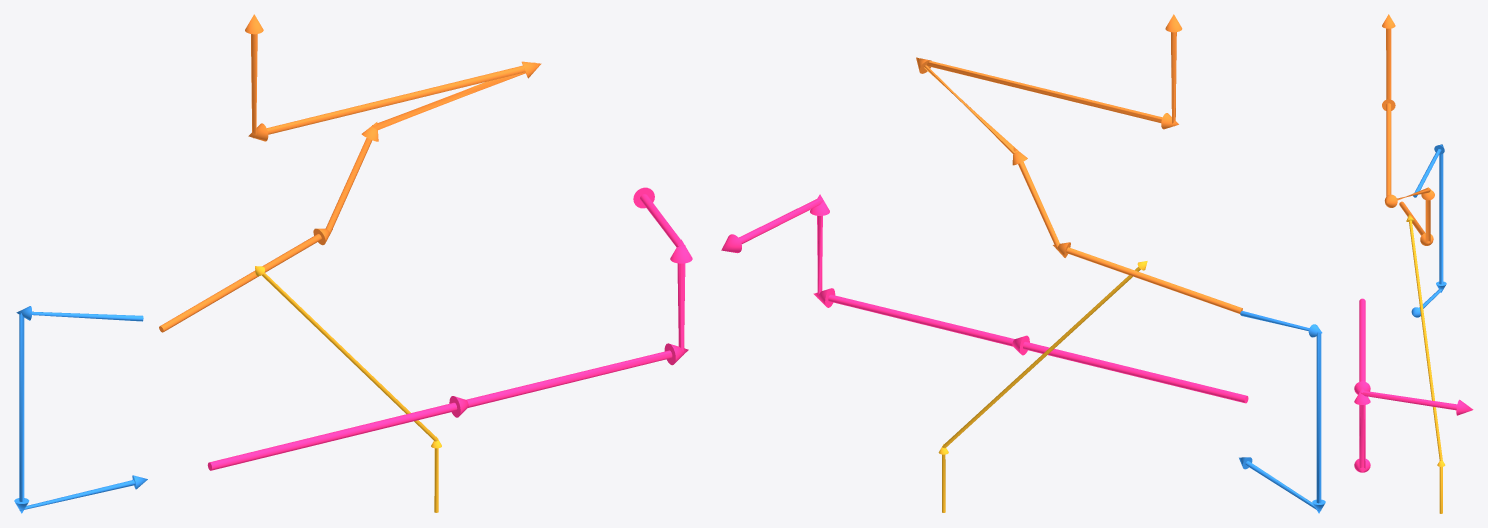
The model's file is diesel_generator_set_flow.glb.
3 renders of one model, left to right at view 1: azimuth 30°, elevation 25°; view 2: azimuth 150°, elevation 25°; view 3: azimuth 270°, elevation 25°, orthographic. The views are drawn at different scales.
Parts seen in each view (by area): view 1: exhaust_gas, power_flow, coolant, fuel; view 2: power_flow, exhaust_gas, coolant, fuel; view 3: power_flow, exhaust_gas, coolant, fuel.
Part boxes in pixels (bbox=[...]): exhaust_gas: bbox=[159, 14, 541, 332]; power_flow: bbox=[207, 187, 692, 470]; coolant: bbox=[14, 306, 147, 513]; fuel: bbox=[255, 266, 441, 512]; power_flow: bbox=[721, 194, 1248, 403]; exhaust_gas: bbox=[916, 14, 1242, 313]; coolant: bbox=[1239, 311, 1325, 513]; fuel: bbox=[938, 261, 1147, 512]; power_flow: bbox=[1354, 298, 1473, 472]; exhaust_gas: bbox=[1382, 14, 1434, 245]; coolant: bbox=[1411, 144, 1446, 317]; fuel: bbox=[1406, 214, 1445, 513].
Bounding box in the file's own units: 2.08 × 1.77 × 0.4545.
